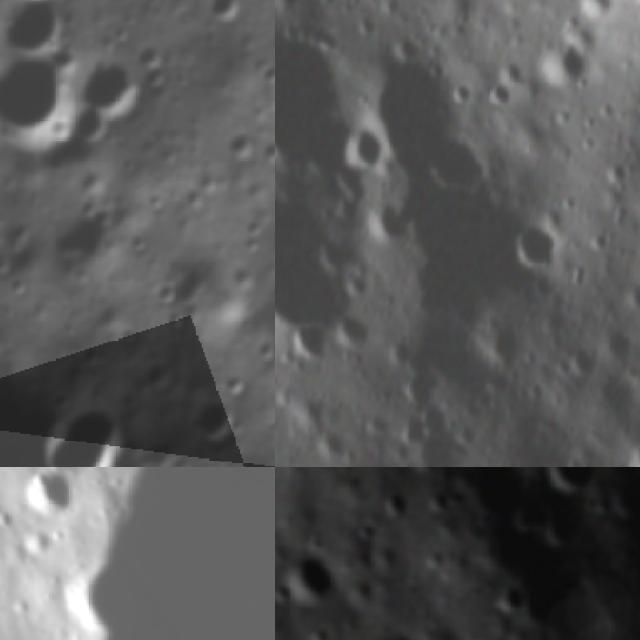crater: (0, 467, 275, 537), (275, 30, 363, 199), (377, 51, 485, 188), (275, 187, 368, 343), (0, 41, 94, 160), (32, 182, 136, 289), (34, 388, 150, 467), (0, 375, 88, 467), (0, 0, 95, 80), (66, 49, 152, 134), (276, 543, 354, 621), (159, 247, 226, 321), (16, 467, 90, 533), (184, 386, 256, 452), (538, 33, 589, 94), (509, 218, 562, 276), (538, 508, 594, 556), (535, 467, 614, 500), (488, 580, 536, 626), (372, 480, 417, 528), (201, 0, 255, 39), (362, 618, 450, 640), (396, 366, 439, 408), (285, 326, 329, 364), (346, 120, 382, 166), (626, 423, 640, 467), (308, 622, 334, 640), (177, 0, 238, 7), (630, 85, 640, 125)
